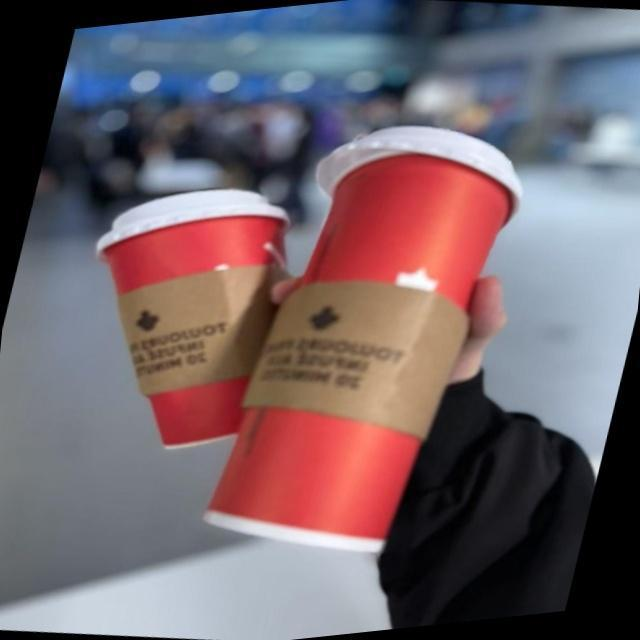timmies: (186, 88, 520, 565), (82, 177, 304, 452)
